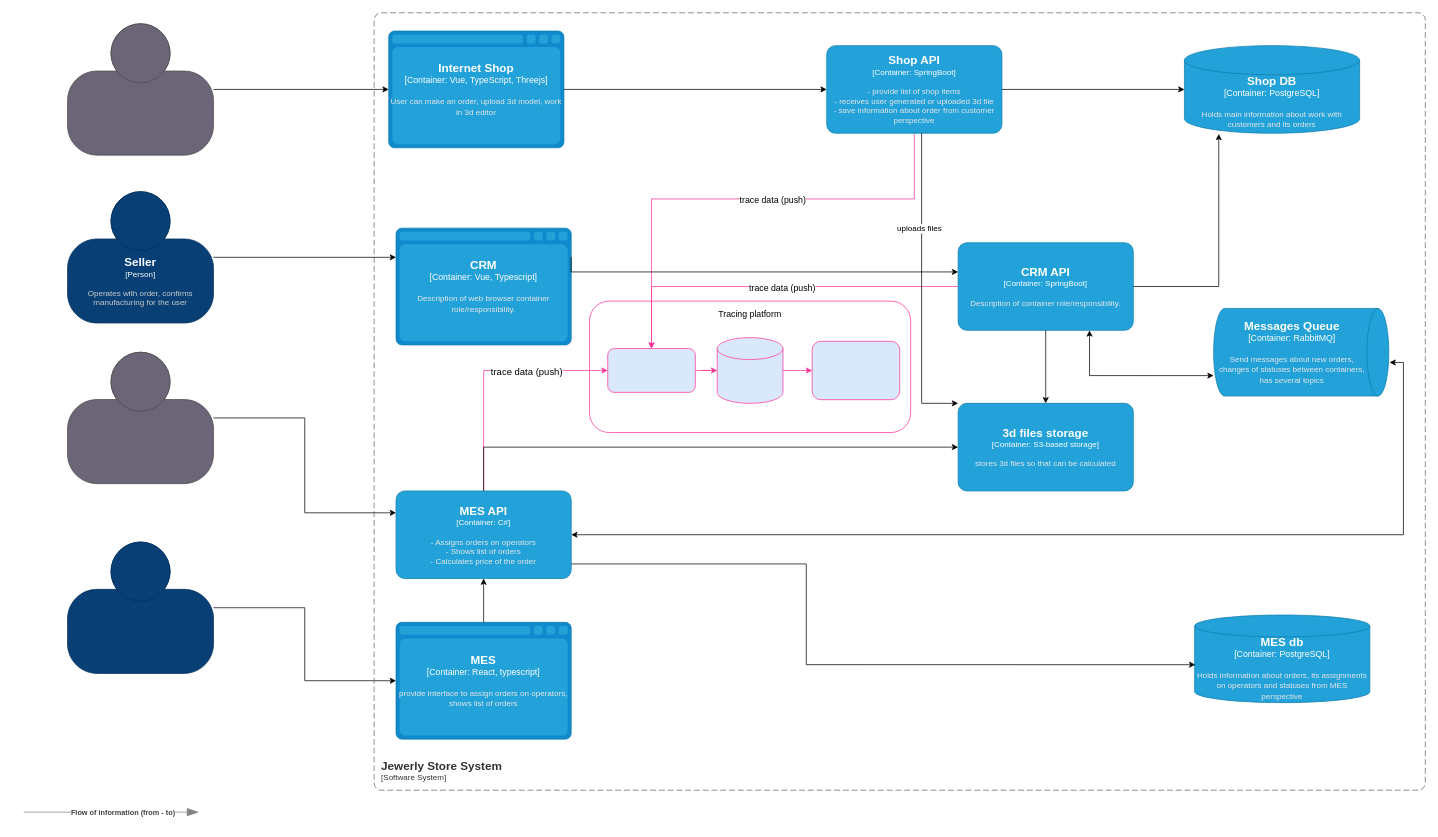
The diagram is 1438 pixels wide and 837 high, and some of its shapes have lost their labels. The shapes that lost their labels are listed below. From the top down, each one's centre as x and y in pixels, then its label:
At point 140,89: "Customer [Person] Description of external person.".
At point 651,370: "Jaeger Collector Role".
At point 749,370: "DB OpenSearch".
At point 855,370: "Jaeger Query Role Jaeger UI".
At point 140,417: "API user [Person] Description of external person.".
At point 140,607: "Operator [Person] Takes order in work, manufactures jewerly".
